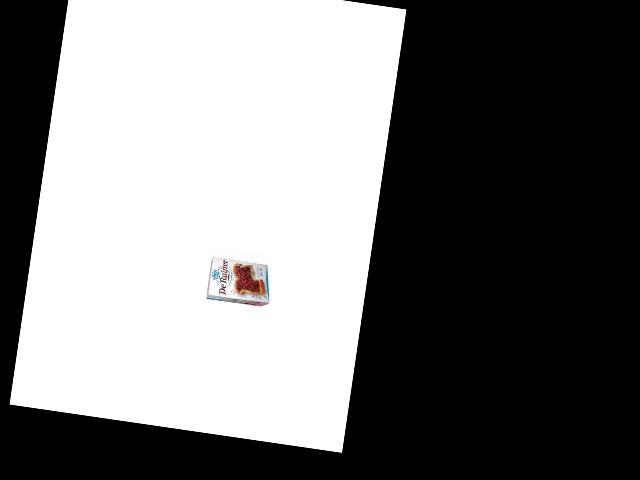chocolate: (201, 250, 273, 313)
